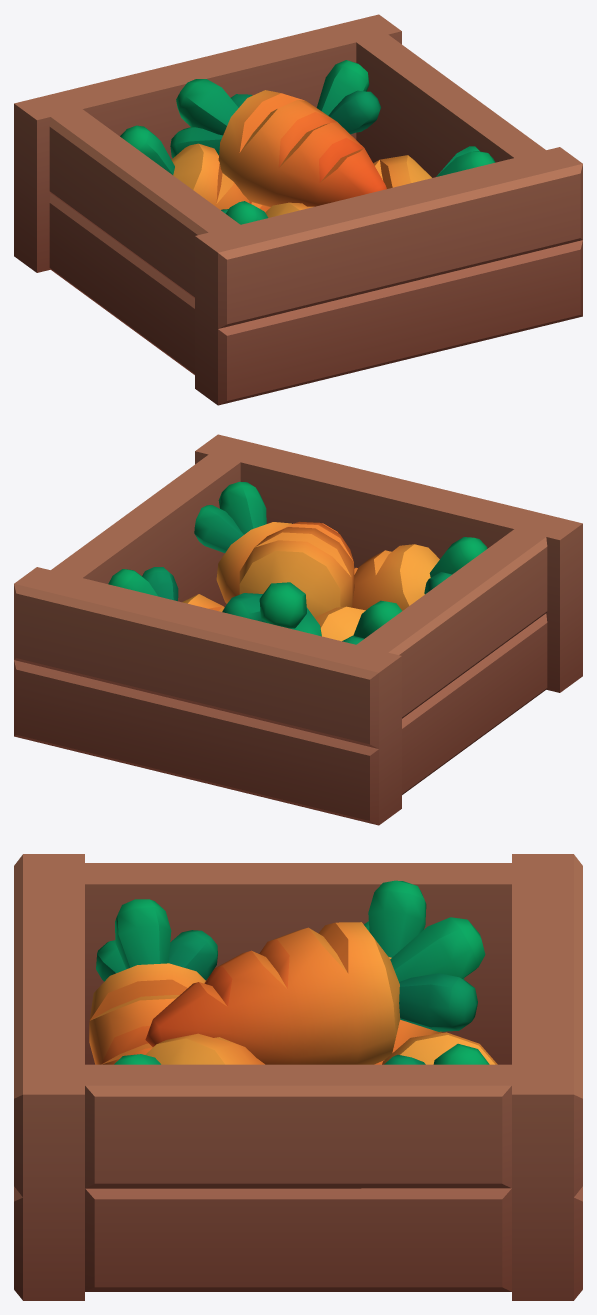
Rendered from carrot_counter.glb.
3 renders of one model, top to bottom at view 1: azimuth 30°, elevation 25°; view 2: azimuth 150°, elevation 25°; view 3: azimuth 270°, elevation 25°, orthographic. The views are drawn at different scales.
Visible parts, largest first — view 1: crate_carrots; view 2: crate_carrots; view 3: crate_carrots.
Part boxes in pixels (box(x1,y1,x2,y2)): crate_carrots: box(14, 14, 582, 405); crate_carrots: box(14, 434, 582, 825); crate_carrots: box(14, 854, 582, 1300).
Bounding box in the file's own units: 2 × 0.9432 × 2.
Materials: 1 (1 with a texture image).
